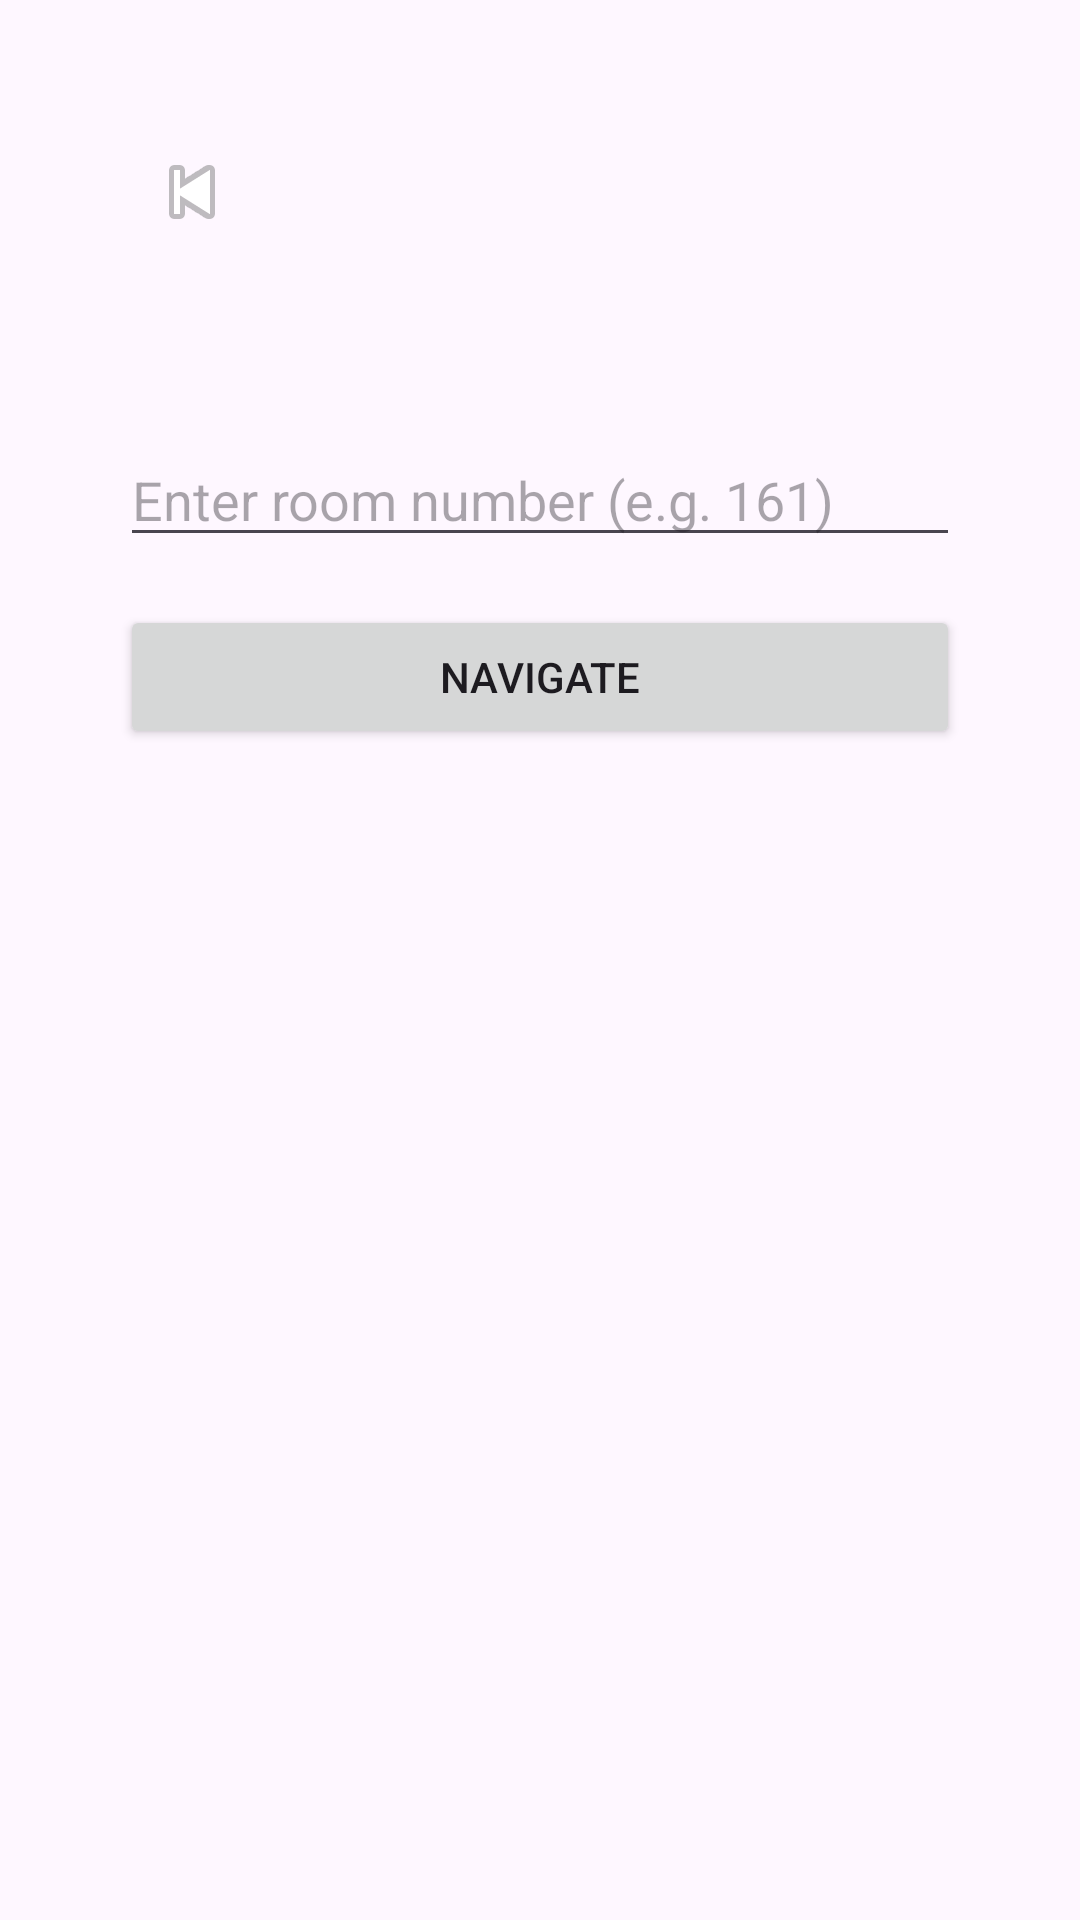

Icons on this 1080x1920 Android screen, each with the point to tap as (x=x, y=y):
previous: (x=192, y=192)
